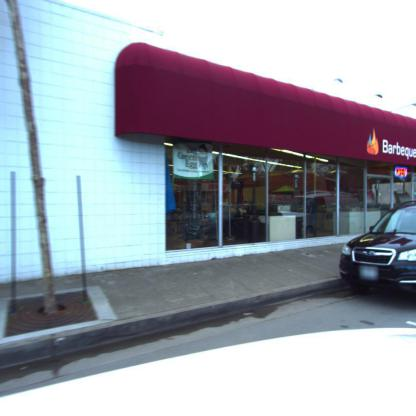car: (338, 202, 416, 302)
